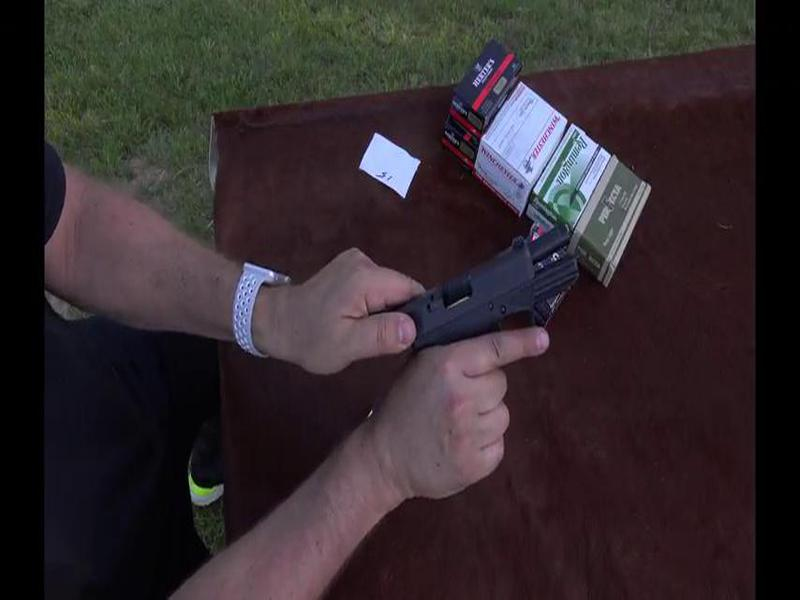Pistola: (356, 226, 607, 384)
